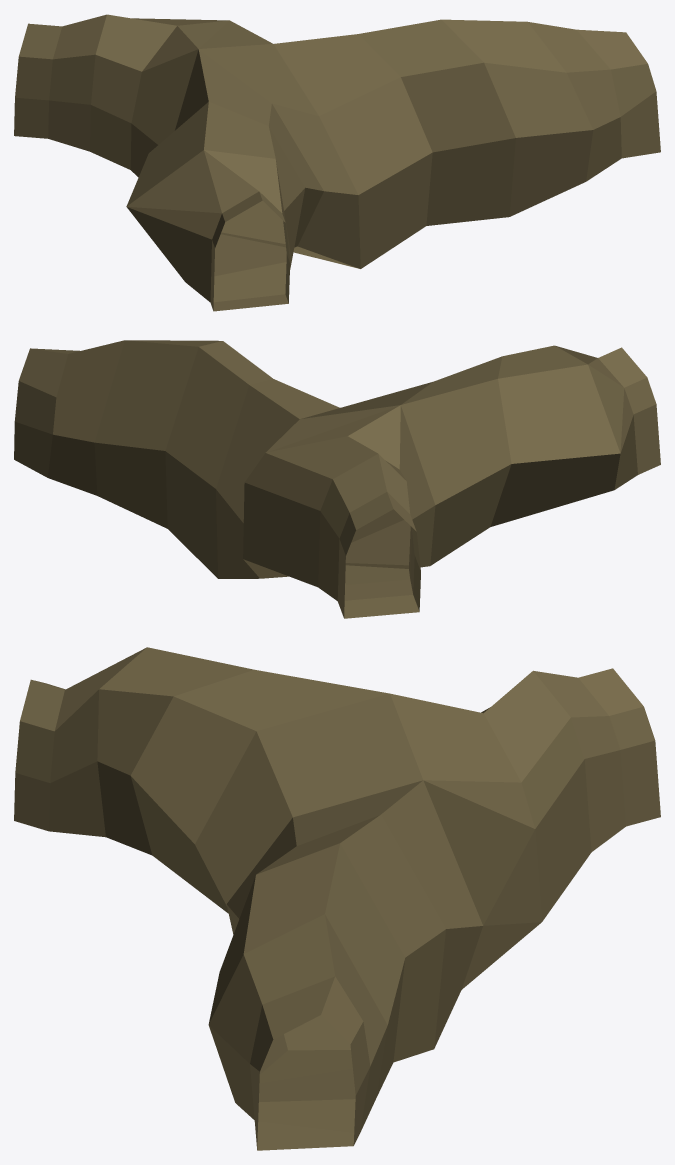
Rendered from Tunnel-Y02.fbx.
3 renders of one model, top to bottom at view 1: azimuth 30°, elevation 25°; view 2: azimuth 150°, elevation 25°; view 3: azimuth 270°, elevation 25°, orthographic. The views are drawn at different scales.
Parts seen in each view (by area): view 1: Tunnel-Y02; view 2: Tunnel-Y02; view 3: Tunnel-Y02.
Boxes of the visible parts, x1,y1,x2,y2 form: Tunnel-Y02: (14, 14, 660, 311); Tunnel-Y02: (14, 340, 660, 618); Tunnel-Y02: (14, 647, 660, 1150).
Bounding box in the file's own units: 1128 × 1405 × 501.
